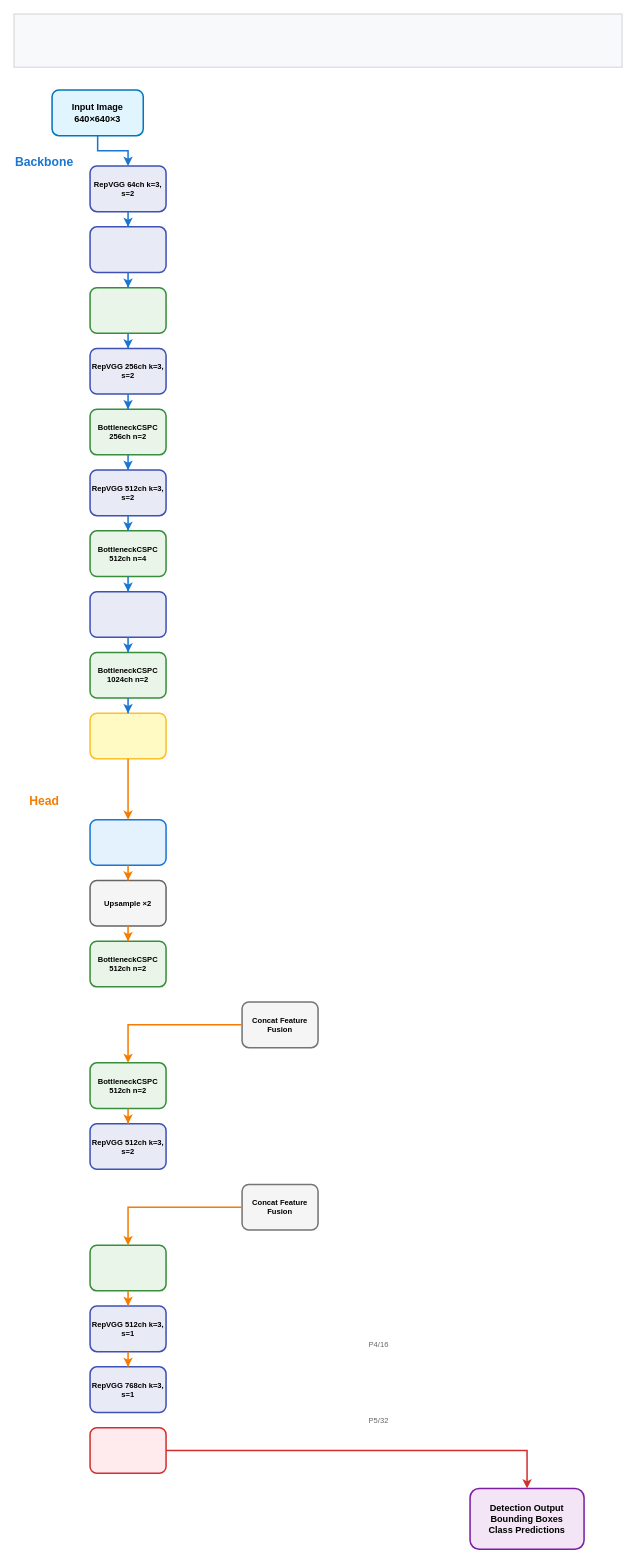
Some shapes in this 635 by 1563 pixel diagram are drawn without their labels. The centre of each missing label's shape, as x and y in pixels:
"BottleneckCSPC 128ch n=2" belongs at (127,310).
"BottleneckCSPC 768ch n=2" belongs at (127,1267).
"Conv 512ch k=1, s=1" belongs at (127,842).
"IDetect Classes: nc" belongs at (127,1450).
"RepVGG 1024ch k=3, s=2" belongs at (127,614).
"RepVGG 128ch k=3, s=2" belongs at (127,249).
"SPPF 1024ch k=5" belongs at (127,735).
"YOLOv4-RepVGG RepVGG Reparameterization + CSP Backbone" belongs at (317,40).
